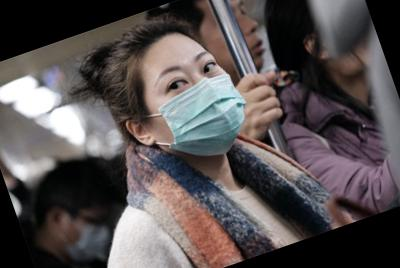with_mask: (132, 41, 261, 176), (56, 204, 125, 268)
